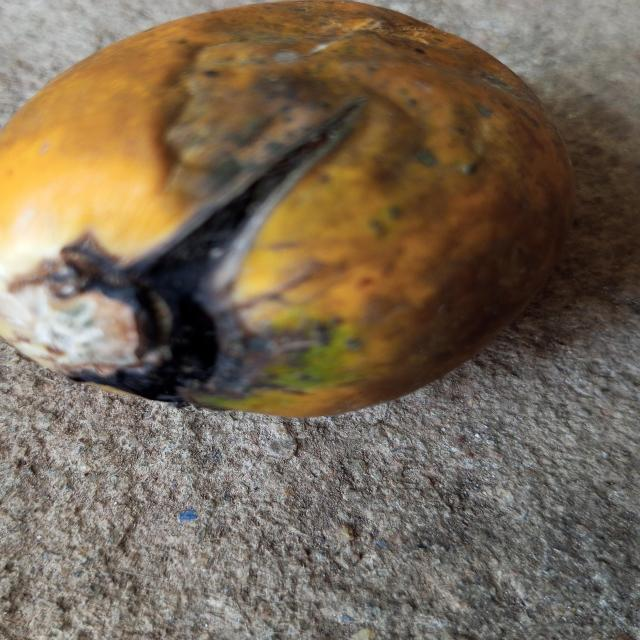damaged: (0, 1, 572, 416)
